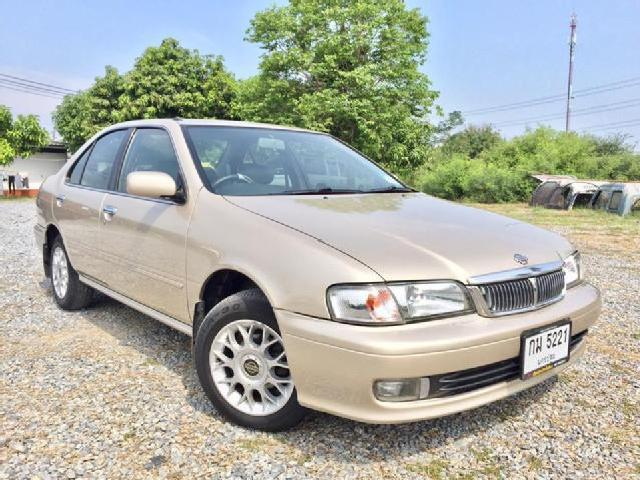sedan: (31, 116, 604, 434)
